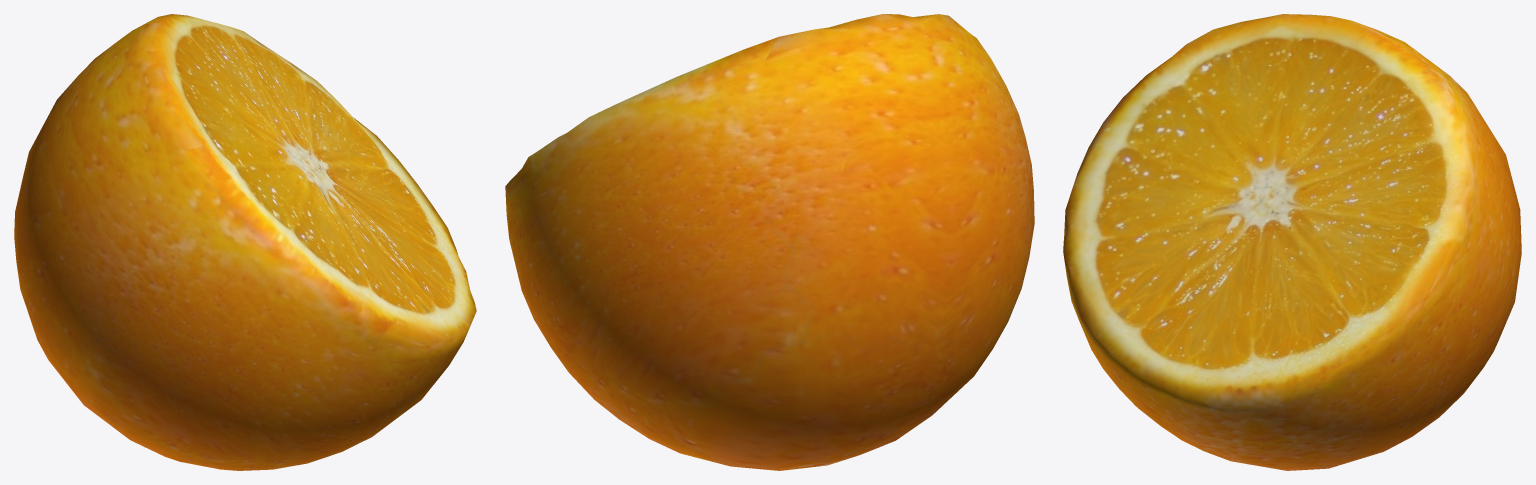
The model's file is naranja.glb.
3 renders of one model, left to right at view 1: azimuth 30°, elevation 25°; view 2: azimuth 150°, elevation 25°; view 3: azimuth 270°, elevation 25°, orthographic. The views are drawn at different scales.
Visible parts, largest first — view 1: Object_3; view 2: Object_3; view 3: Object_3.
Part boxes in pixels (bbox=[...]): Object_3: bbox=[14, 14, 476, 470]; Object_3: bbox=[505, 14, 1034, 470]; Object_3: bbox=[1063, 14, 1521, 470].
Bounding box in the file's own units: 1.85 × 1.78 × 1.86.
Materials: 1 (1 with a texture image).
